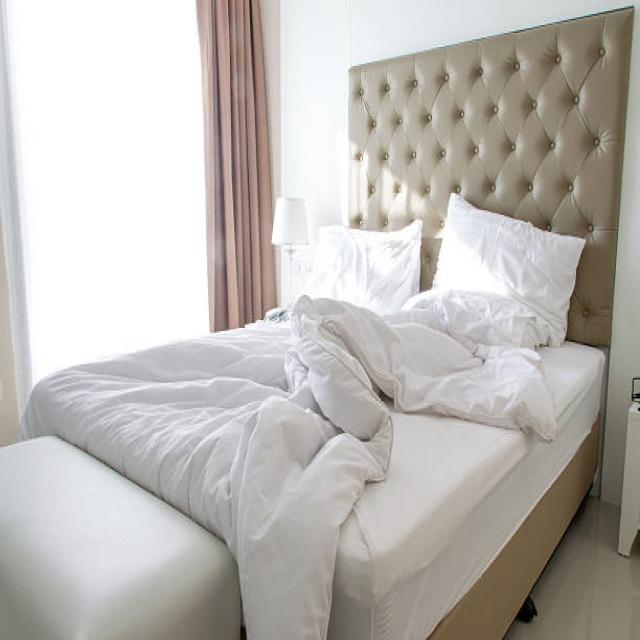bed: (59, 209, 600, 572)
